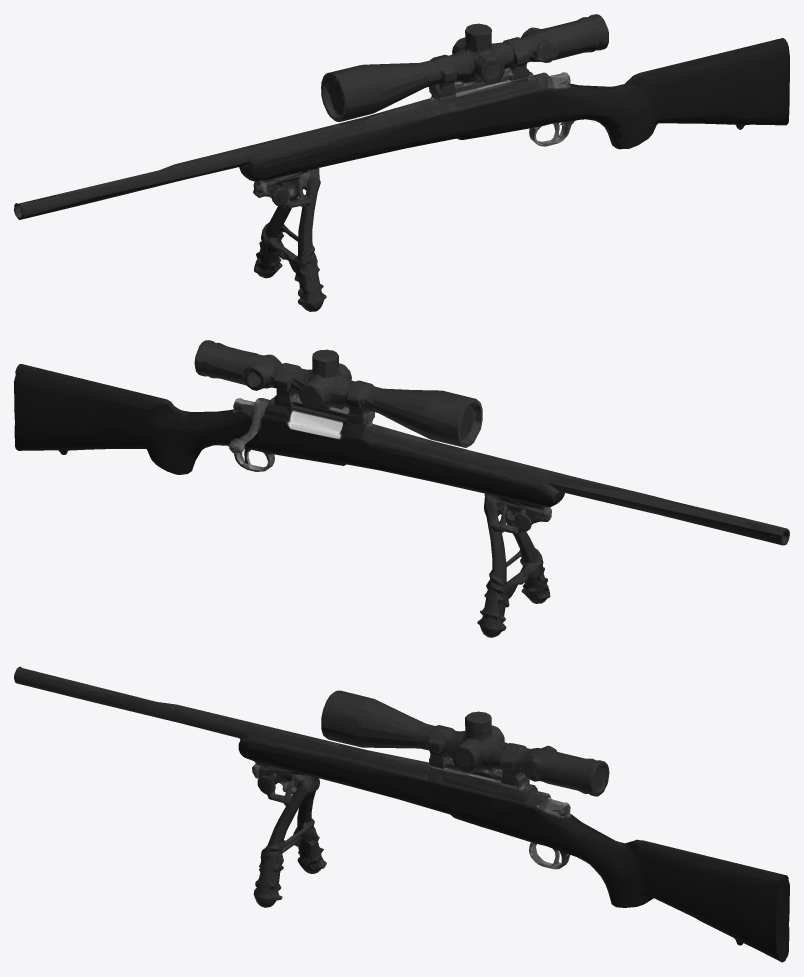
File: w-sniper.glb
The picture shows the model from 3 angles, top to bottom: view 1: azimuth 30°, elevation 25°; view 2: azimuth 150°, elevation 25°; view 3: azimuth 330°, elevation 25°; orthographic projection.
Size of the model in its own units: 1.9 by 0.5189 by 0.2436.
Materials: 1 (1 with a texture image).
